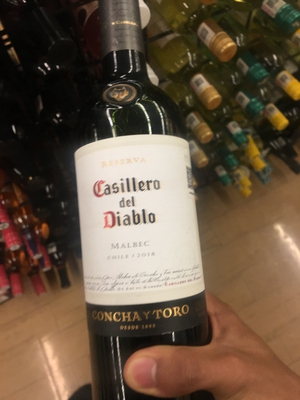casillero del diablo malbec: (61, 10, 222, 400)
